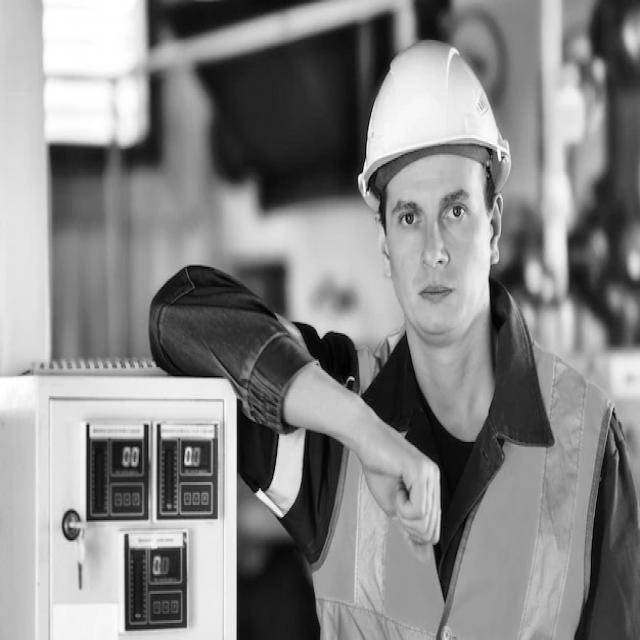safety_helmet: (359, 41, 511, 215)
